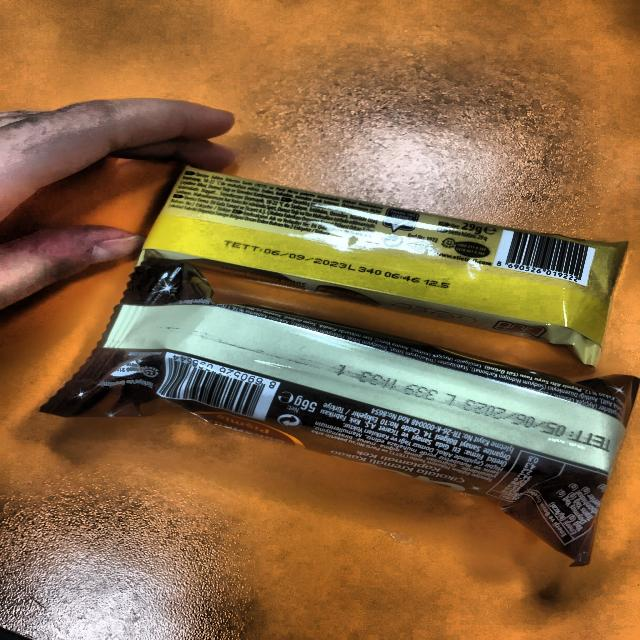Plastic: (38, 257, 640, 571), (141, 164, 628, 375)
